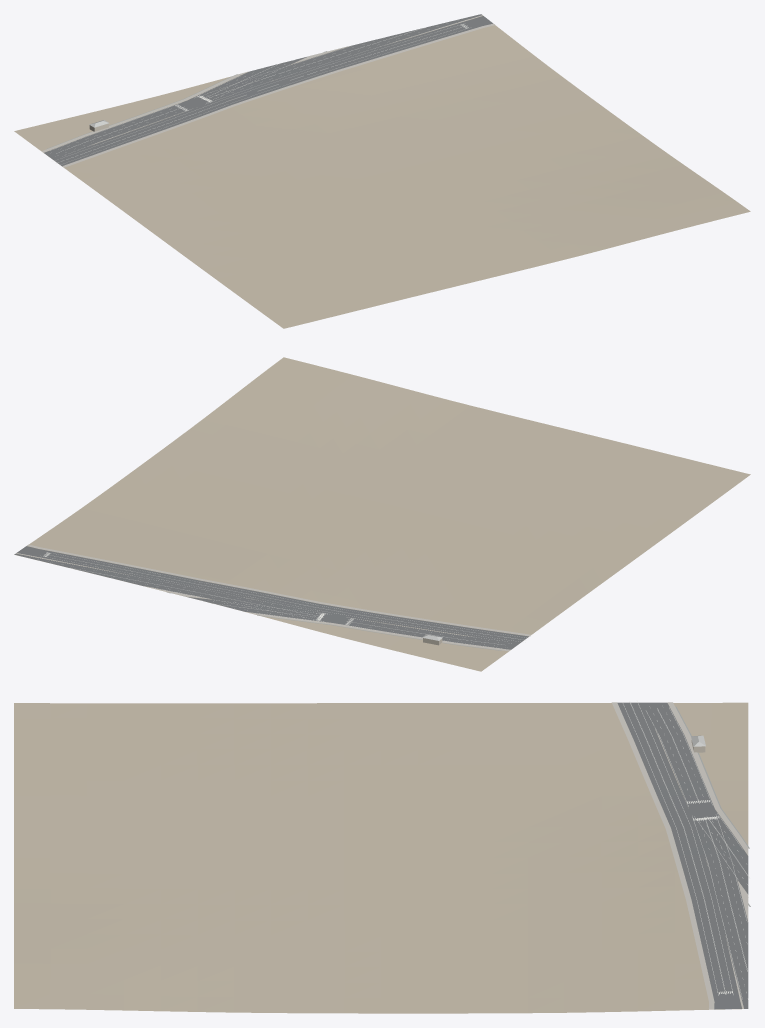
Rendered from bolak_18_-10.glb.
3 views of the same model, one above another, from view 1: azimuth 30°, elevation 25°; view 2: azimuth 150°, elevation 25°; view 3: azimuth 270°, elevation 25° (orthographic). The views are drawn at different scales.
Parts seen in each view (by area): view 1: Yer_Tuproq-col, Yol_Asfalt-col, Trotuar, Yol_Chiziq; view 2: Yer_Tuproq-col, Yol_Asfalt-col, Trotuar, Yol_Chiziq; view 3: Yer_Tuproq-col, Yol_Asfalt-col, Trotuar, Yol_Chiziq.
Part boxes in pixels (x1,y1,x2,y2): Yer_Tuproq-col: (14, 16, 750, 328); Yol_Asfalt-col: (44, 14, 492, 165); Trotuar: (42, 15, 495, 167); Yol_Chiziq: (50, 20, 468, 163); Yer_Tuproq-col: (17, 357, 750, 671); Yol_Asfalt-col: (14, 546, 528, 649); Trotuar: (16, 544, 530, 651); Yol_Chiziq: (31, 552, 526, 648); Yer_Tuproq-col: (14, 702, 748, 1013); Yol_Asfalt-col: (617, 702, 748, 1009); Trotuar: (611, 702, 748, 1009); Yol_Chiziq: (622, 701, 749, 999).
Size of what is drawn, in the model's own units: 403 by 5.67 by 401.
